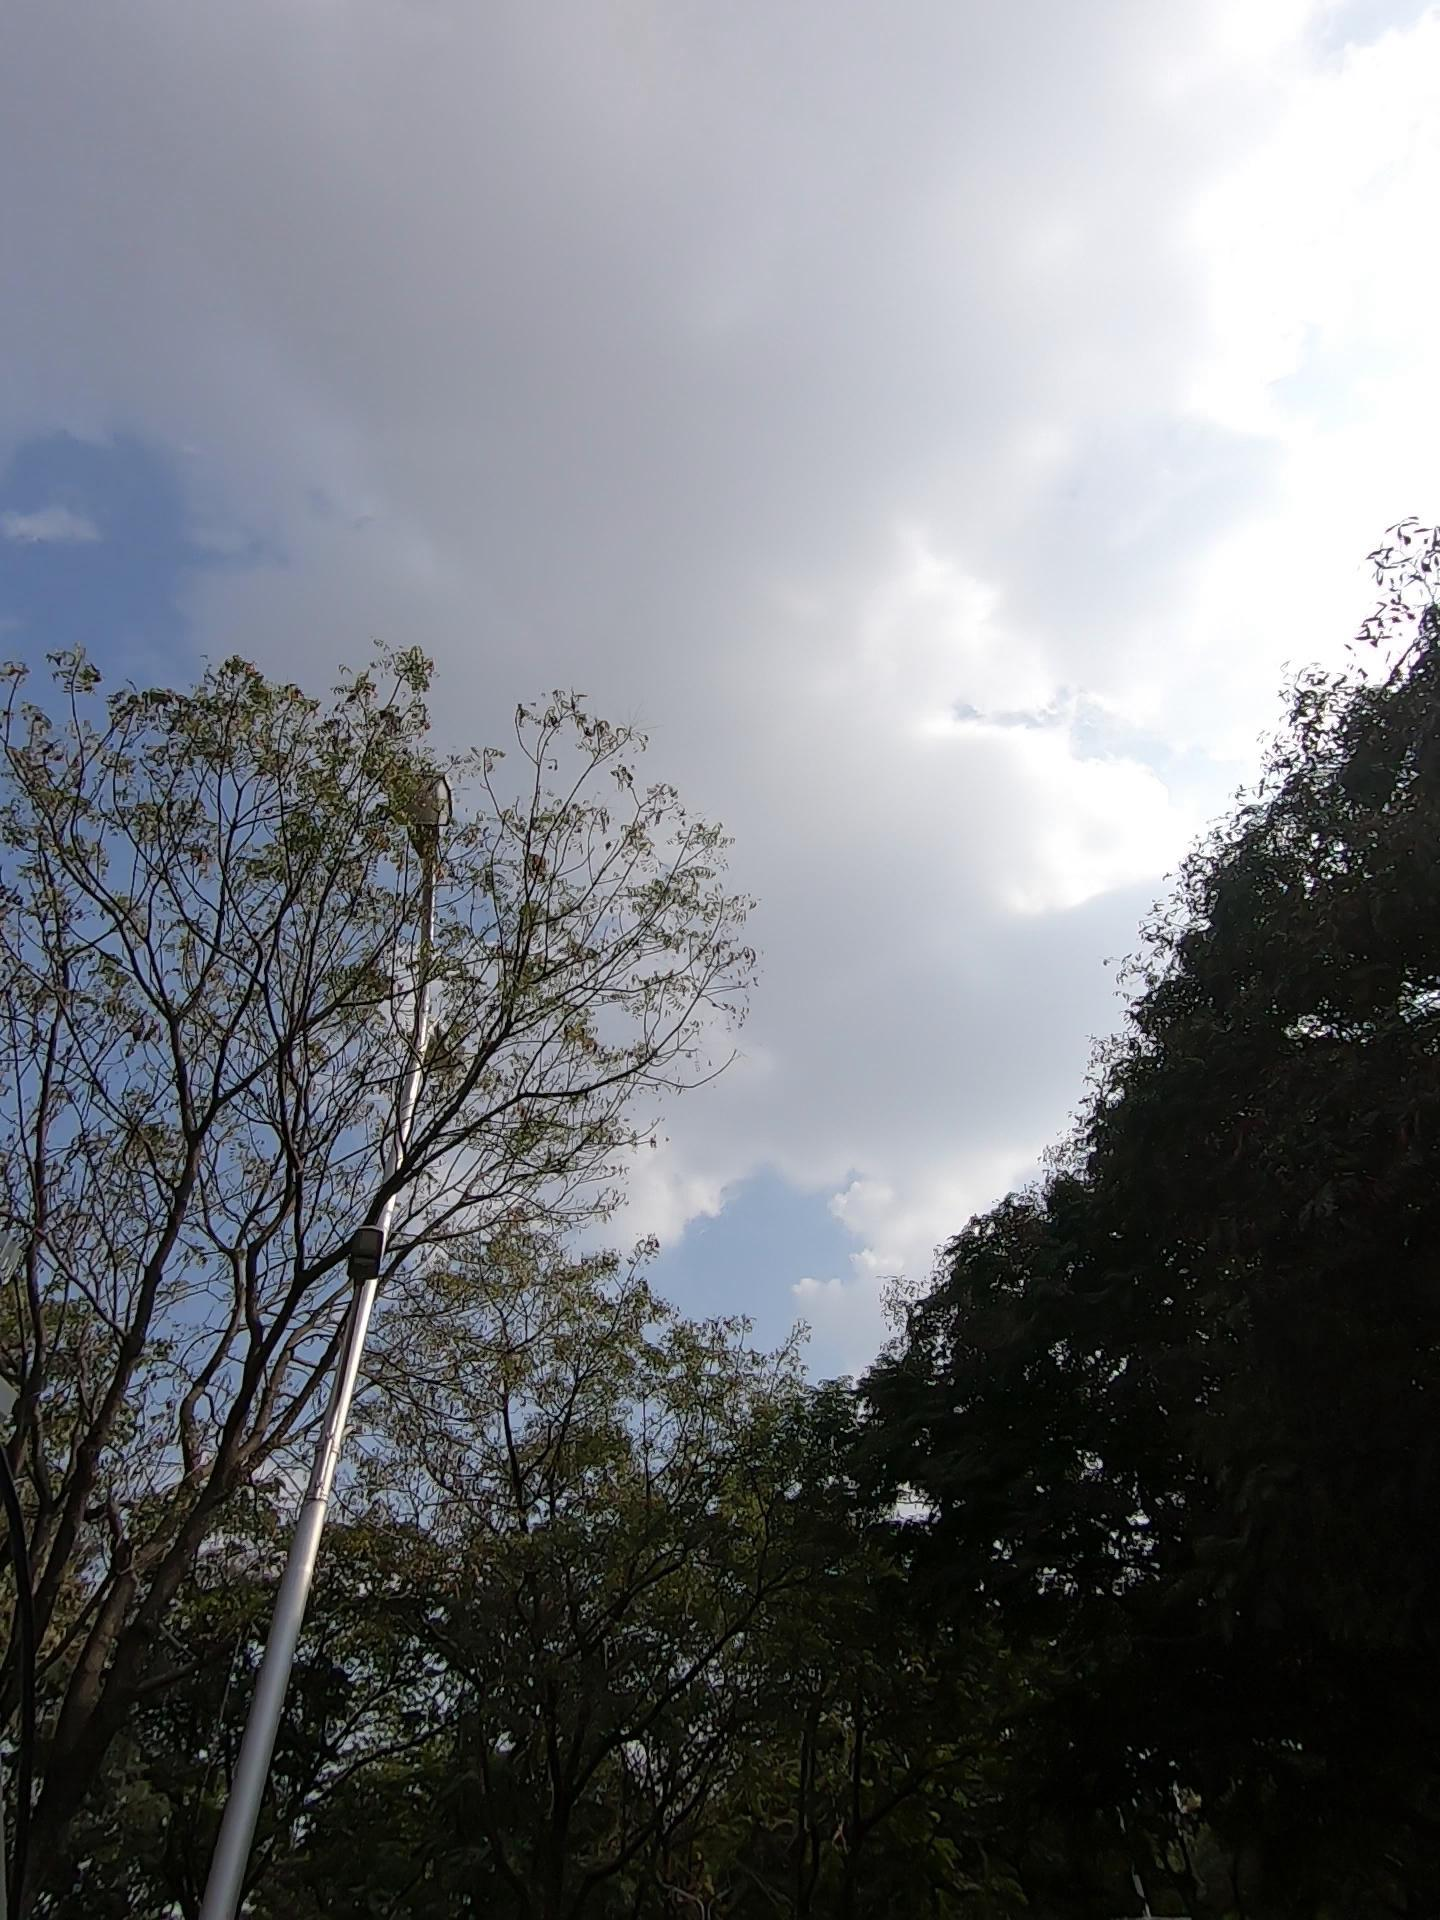off: (241, 745, 640, 1116)
